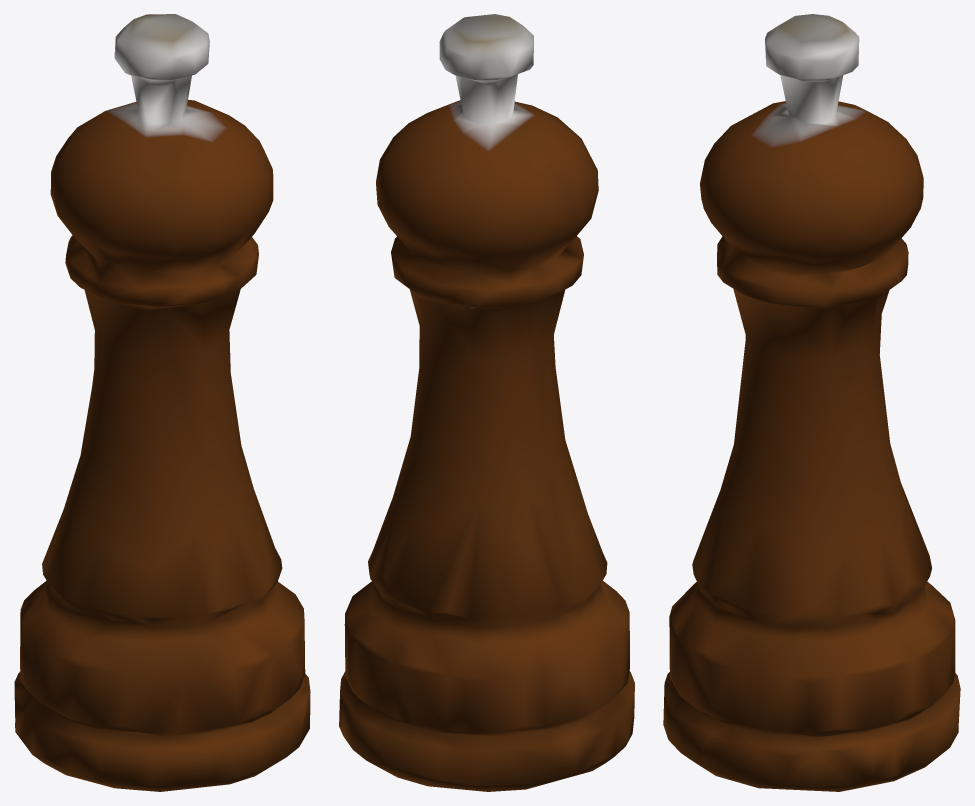
The model's file is gen3d-pepper-mill-lod1.glb.
3 views of the same model, side by side, from view 1: azimuth 30°, elevation 25°; view 2: azimuth 150°, elevation 25°; view 3: azimuth 270°, elevation 25° (orthographic).
Parts seen in each view (by area): view 1: part_0; view 2: part_0; view 3: part_0.
Part boxes in pixels (x1,y1,x2,y2): part_0: (14,14,310,791); part_0: (339,14,634,791); part_0: (663,14,960,791).
Size of the model in its own units: 0.3803 by 0.9999 by 0.38.
